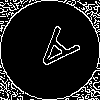A: (25, 25, 81, 82)
